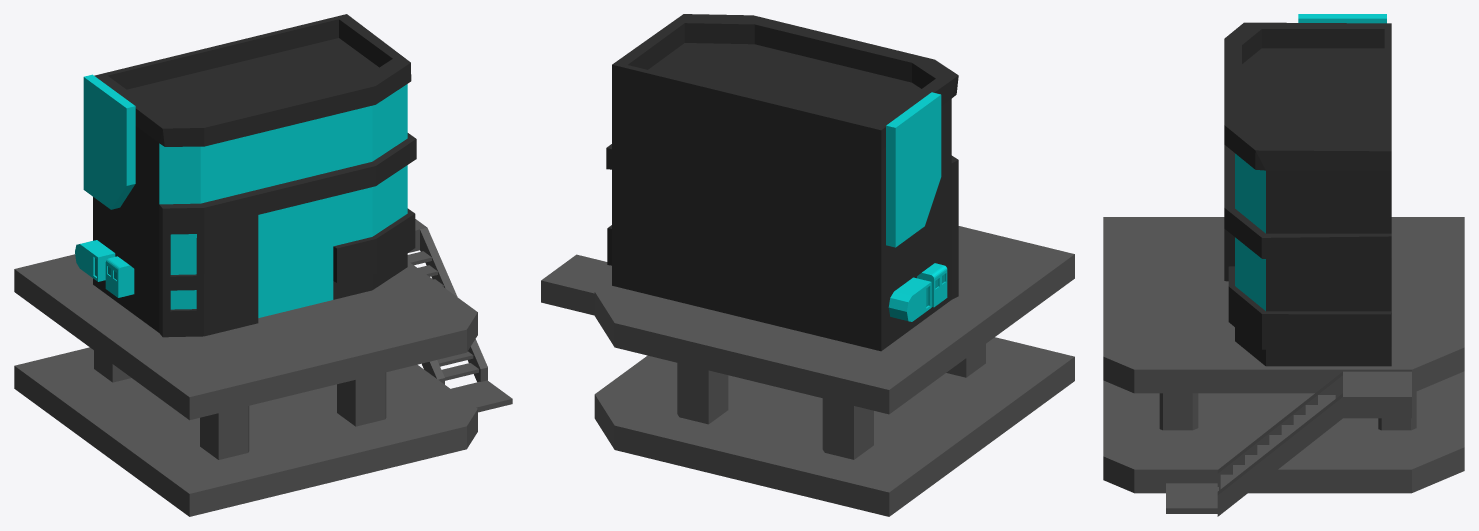
The model's file is House_36.fbx.
3 views of the same model, side by side, from view 1: azimuth 30°, elevation 25°; view 2: azimuth 150°, elevation 25°; view 3: azimuth 270°, elevation 25° (orthographic). The views are drawn at different scales.
Parts seen in each view (by area): view 1: House_36_Body, House_36_Stairs; view 2: House_36_Body, House_36_Stairs; view 3: House_36_Stairs, House_36_Body.
Part boxes in pixels (<box>): House_36_Body: <box>75,14,416,337</box>; House_36_Stairs: <box>14,219,512,516</box>; House_36_Body: <box>606,14,958,351</box>; House_36_Stairs: <box>541,226,1074,516</box>; House_36_Stairs: <box>1103,217,1464,516</box>; House_36_Body: <box>1224,14,1391,366</box>.
Size of the model in its own units: 873 by 782 by 748.
